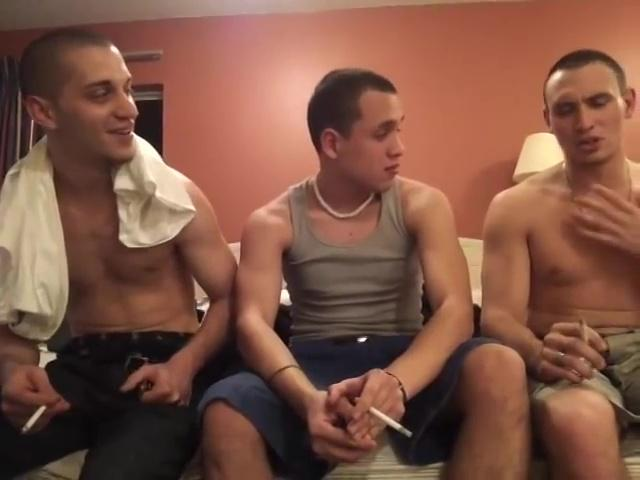cigarette: (368, 405, 418, 438), (19, 401, 47, 435), (574, 315, 591, 342)
